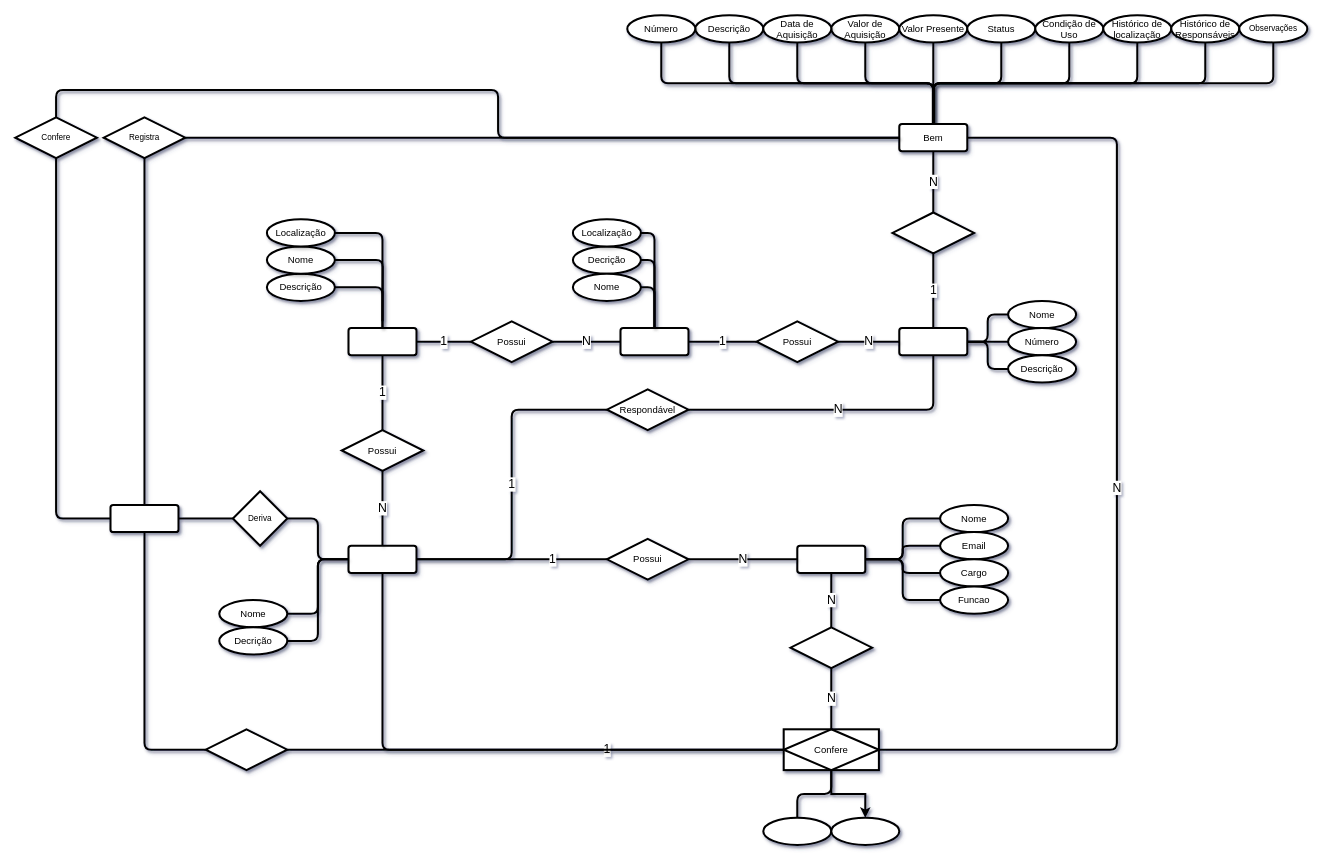
This 1328x866 diagram has some shape labels left out. Here are the shapes that lost their labels. From the top down, the centre of each, then its label:
At point 933,233: "Aloca-se".
At point 382,342: "Empresa".
At point 654,342: "Prédio".
At point 933,342: "Salas".
At point 144,519: "Patrimônio".
At point 382,560: "Departamento".
At point 831,560: "Funcionário".
At point 831,648: "Participa".
At point 247,750: "Requisita".
At point 797,832: "Data".
At point 865,832: "id/ tipo".
